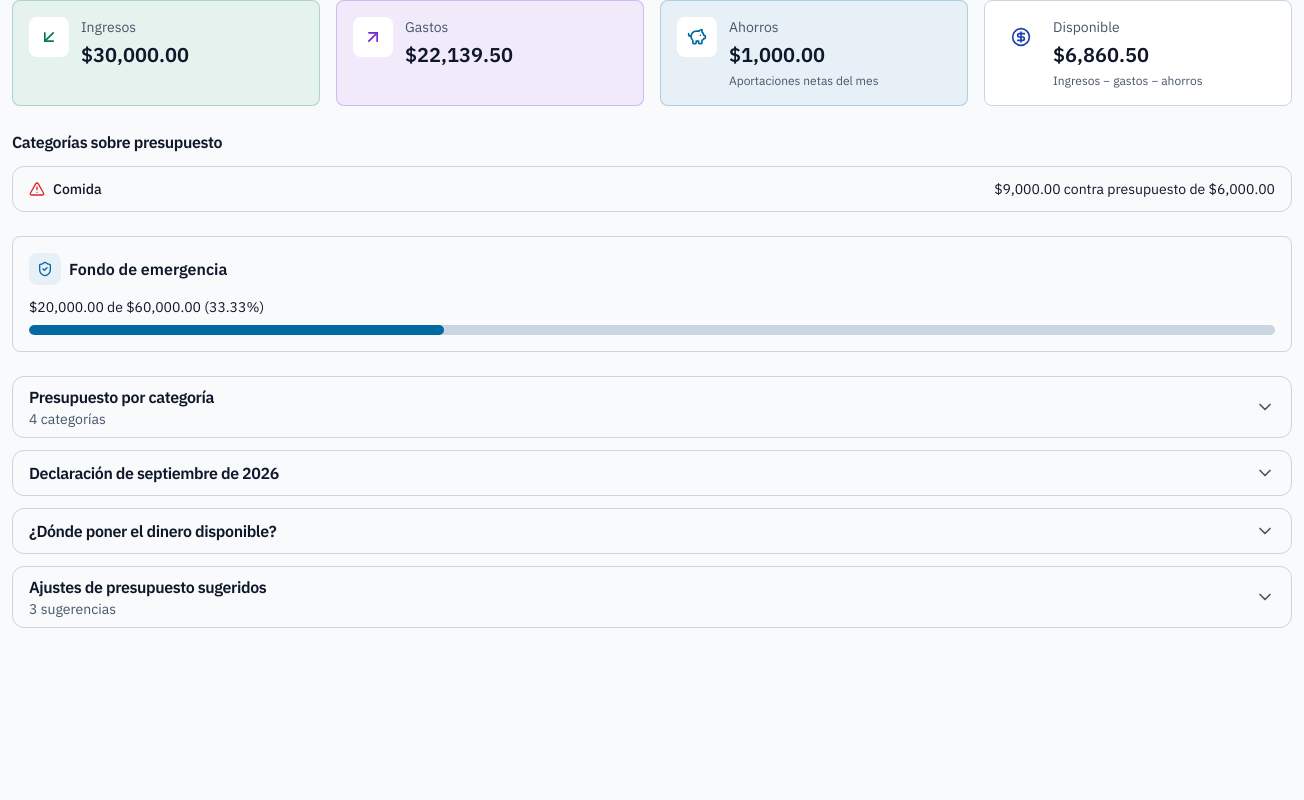
Test case: CloseReport › keeps the summary visible and the long sections collapsed until opened
Expected: the element named "Resumen del mes" shows "$30,000.00", [81, 41, 189, 68]
Expected: the list named "Categorías sobre presupuesto" is shown, [12, 166, 1292, 212]
Step 1. Click the button "¿Dónde poner el dinero disponible?" → [153, 531], box [13, 509, 1291, 553]
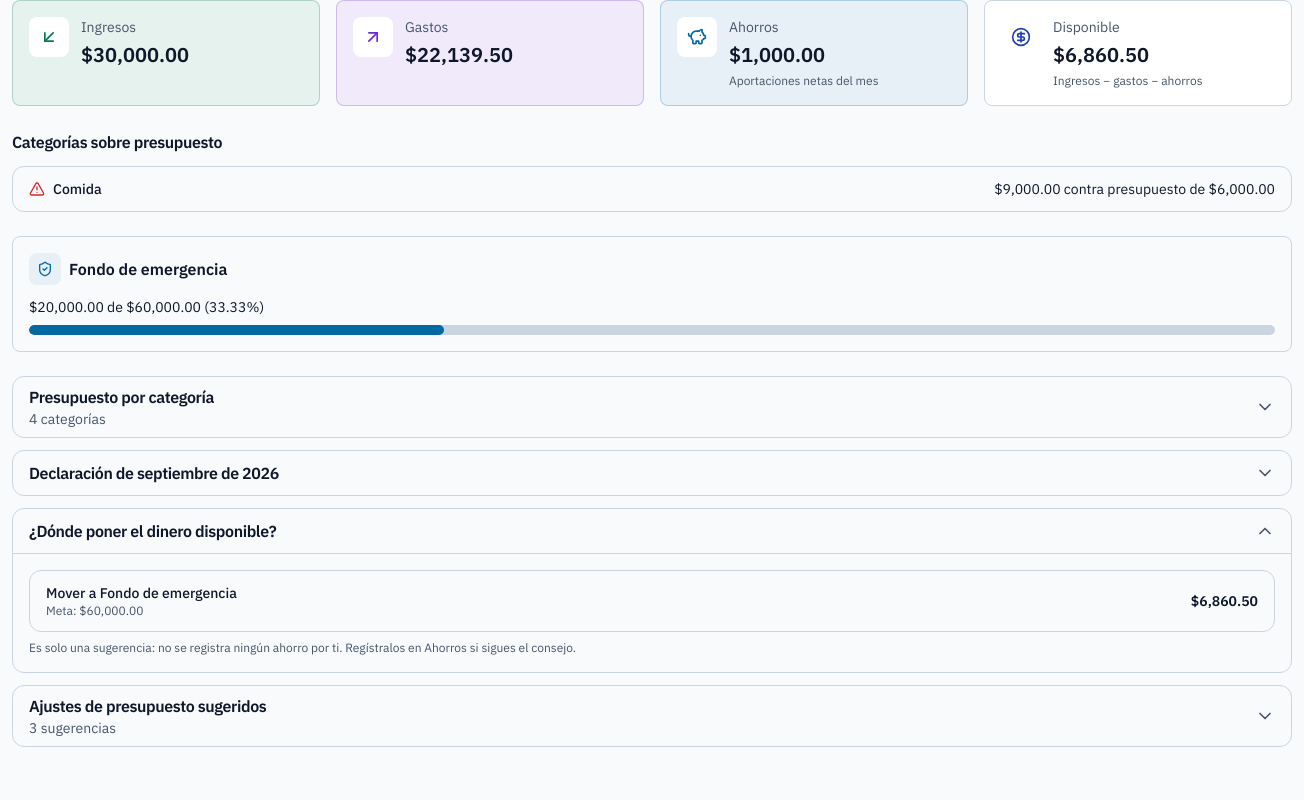
Expected: the list named "Sugerencia del dinero disponible" is shown, [29, 570, 1275, 632]
